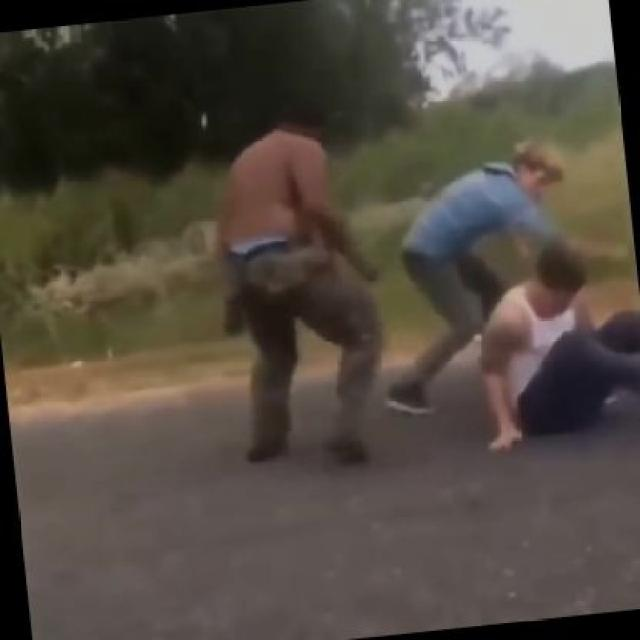fight: (338, 112, 638, 492)
non-fight: (177, 85, 408, 480)
